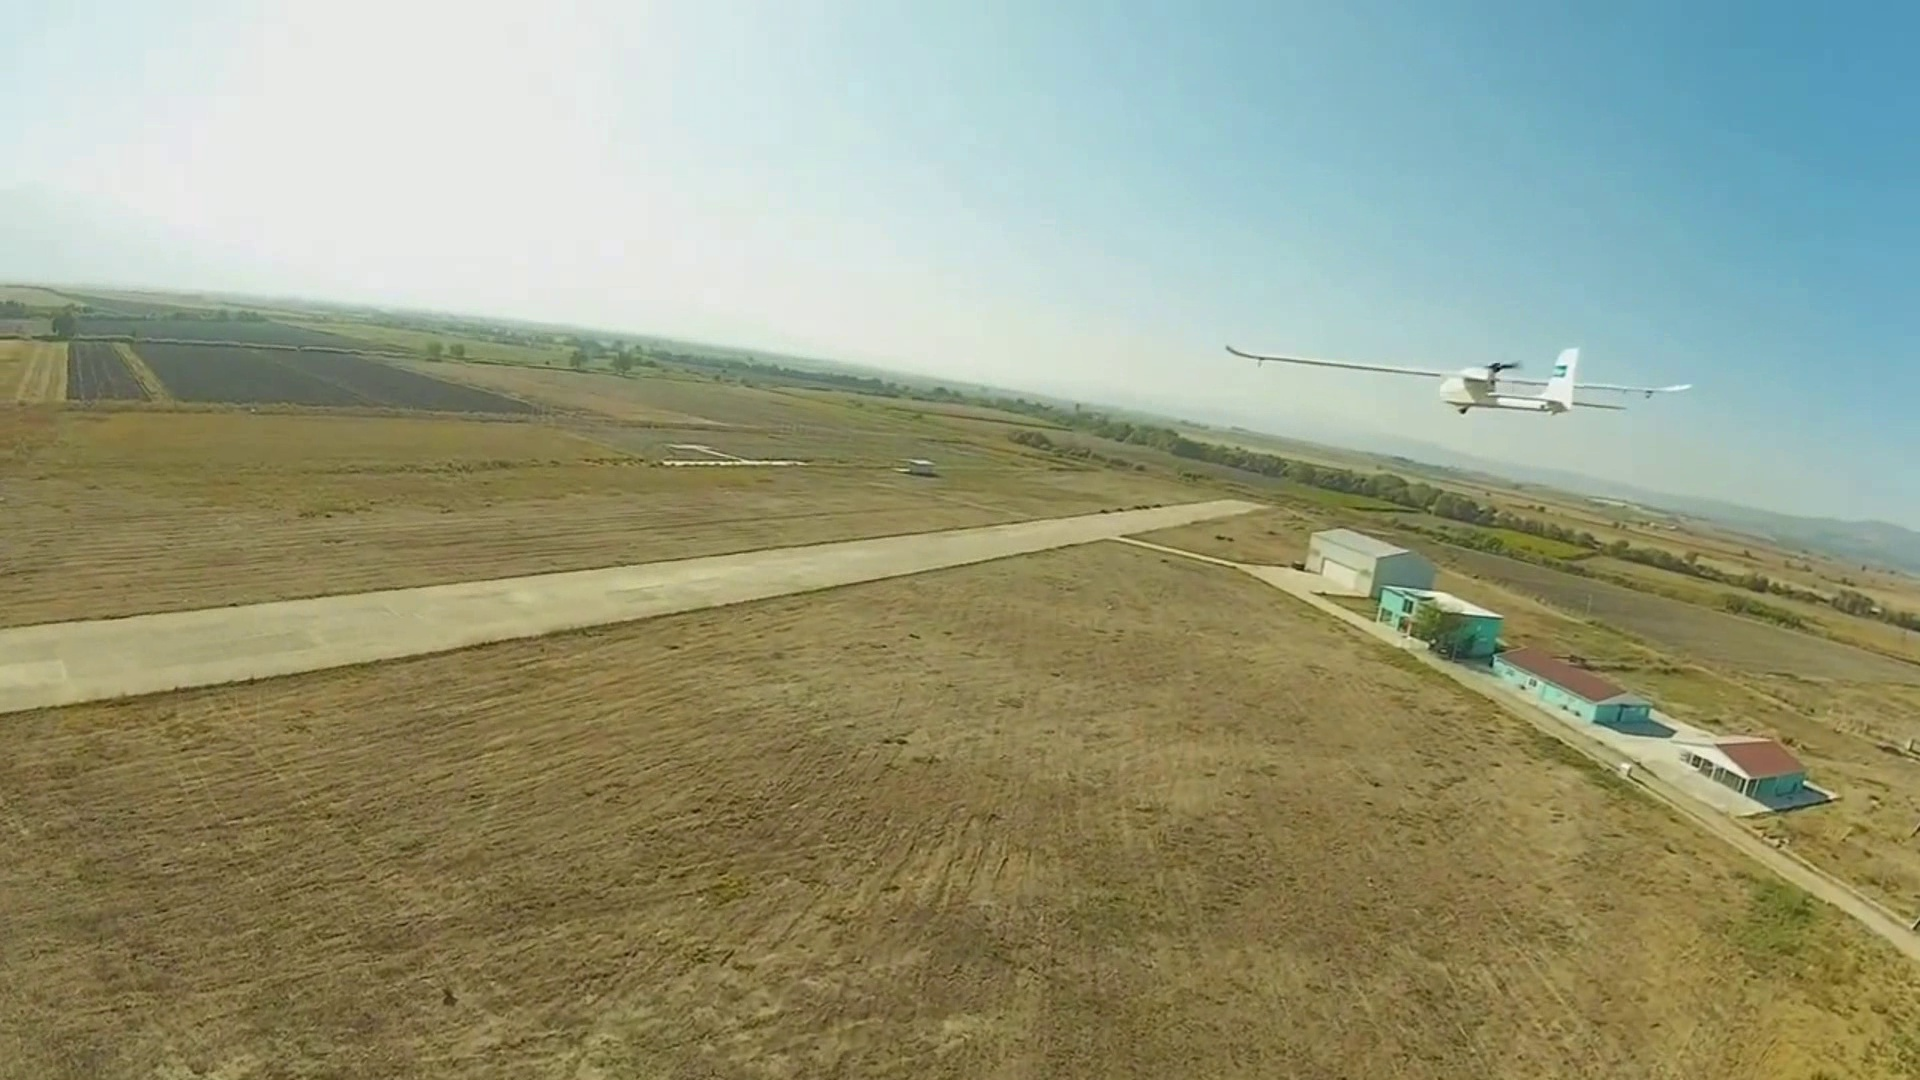airplane: (1222, 343, 1694, 418)
